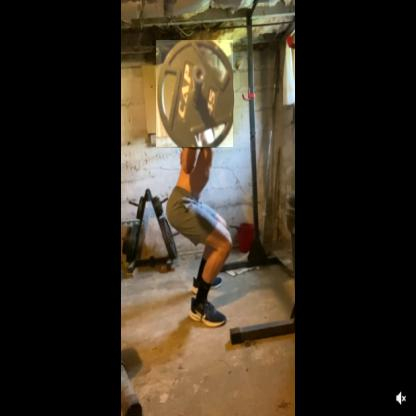barbell: (157, 42, 235, 150)
